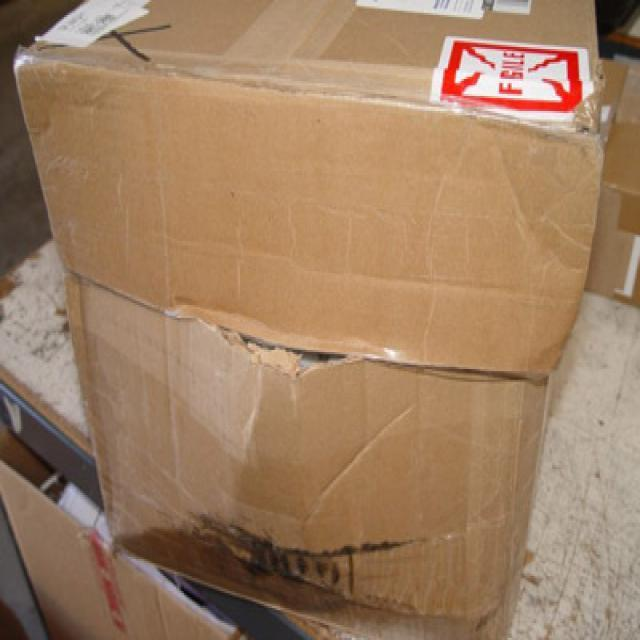damaged: (240, 334, 353, 382)
